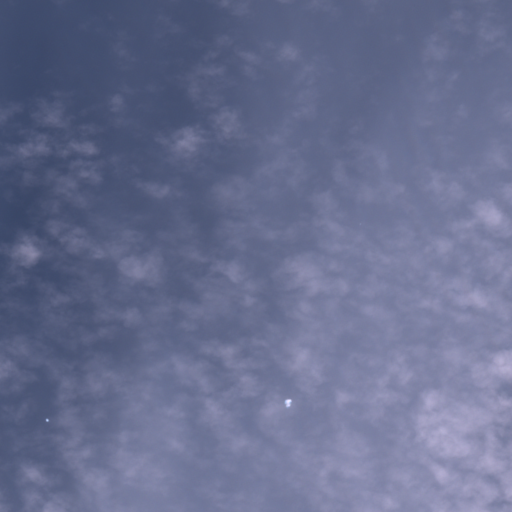Iceberg: (285, 399, 291, 406), (46, 418, 48, 421)
